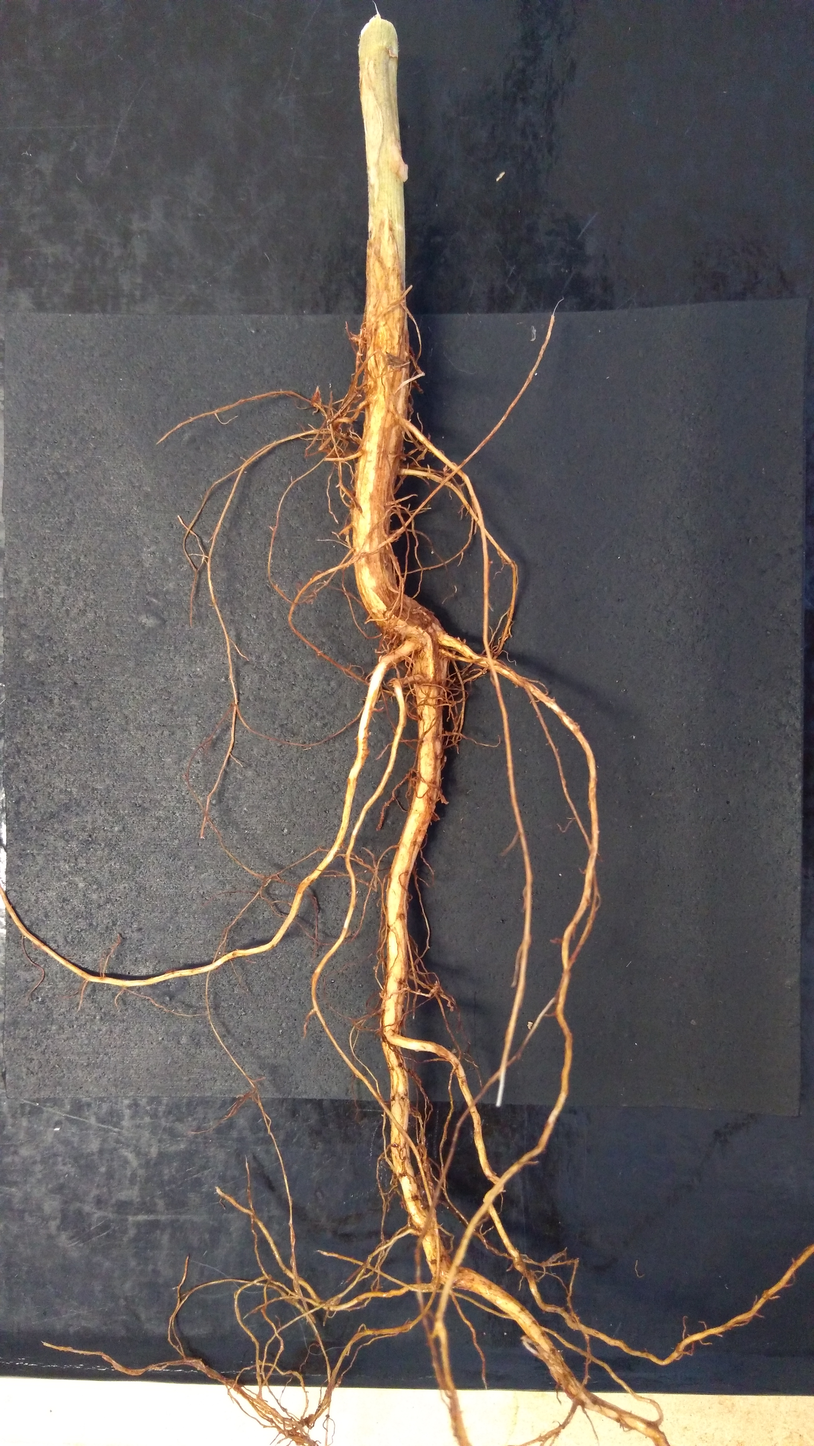nodule: (350, 327, 368, 353), (380, 626, 401, 645), (438, 646, 456, 662), (311, 386, 322, 410), (396, 163, 409, 183), (330, 1295, 342, 1306), (421, 1161, 430, 1173), (405, 653, 414, 664), (527, 1021, 533, 1030), (378, 655, 384, 662), (451, 1048, 458, 1054), (380, 990, 386, 996), (449, 1006, 454, 1013), (446, 1001, 451, 1007), (373, 965, 378, 971), (462, 638, 466, 645), (456, 636, 460, 641), (368, 731, 372, 736), (417, 989, 421, 992)
